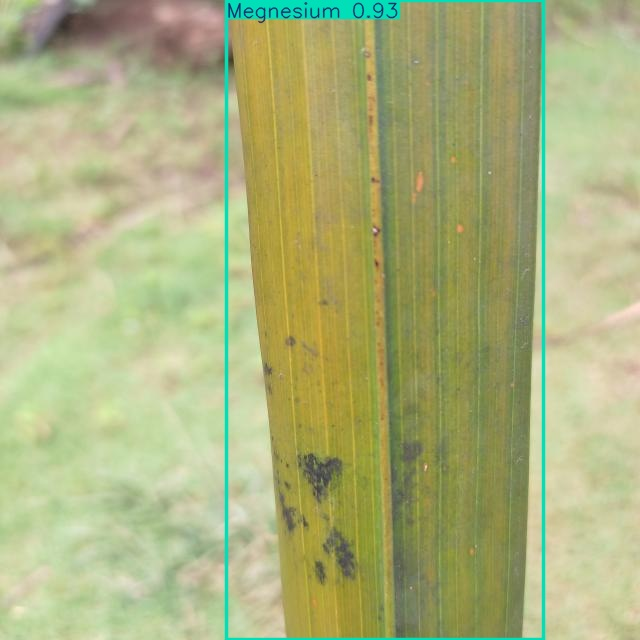Megnesium: (227, 0, 544, 640)
